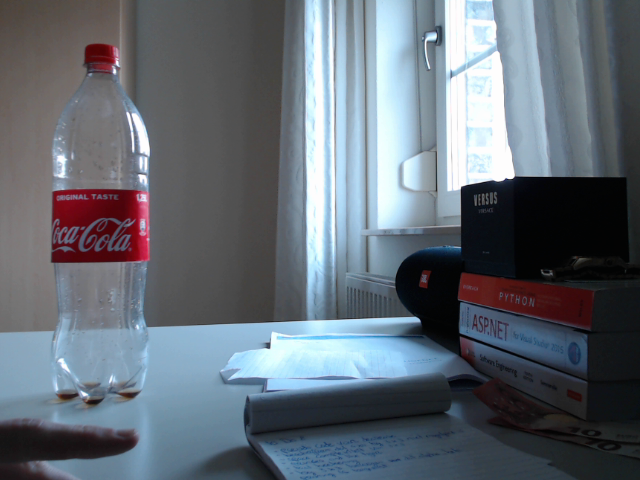bottle: (50, 43, 150, 406)
